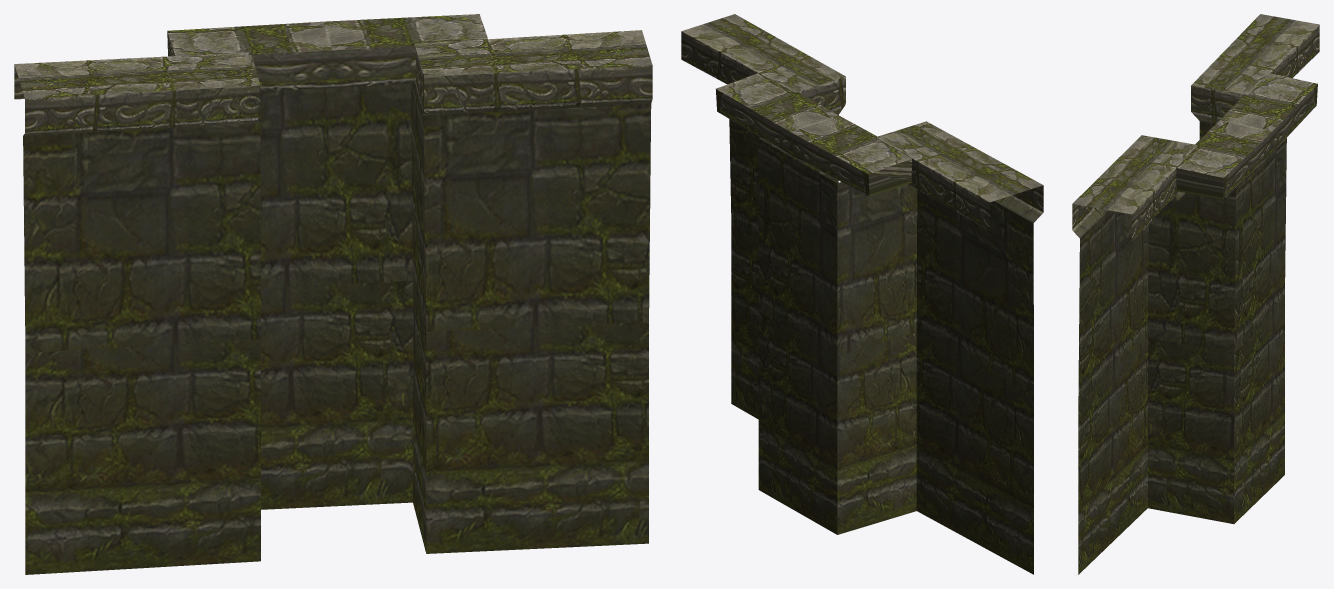
File: 4009_Item_qiang_10.FBX
3 renders of one model, left to right at view 1: azimuth 30°, elevation 25°; view 2: azimuth 150°, elevation 25°; view 3: azimuth 270°, elevation 25°, orthographic. The views are drawn at different scales.
Parts seen in each view (by area): view 1: 4009_Item_qiang_10; view 2: 4009_Item_qiang_10; view 3: 4009_Item_qiang_10.
Part boxes in pixels (left/top/right/bottom): 4009_Item_qiang_10: left=14, top=14, right=652, bottom=574; 4009_Item_qiang_10: left=681, top=14, right=1043, bottom=574; 4009_Item_qiang_10: left=1072, top=14, right=1319, bottom=574.
Bounding box in the file's own units: 1059 × 914 × 552.
